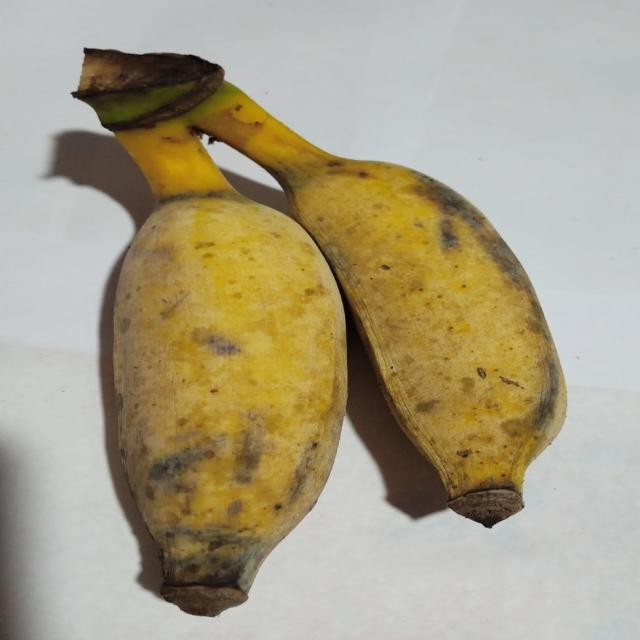banana: (104, 75, 566, 526), (114, 119, 346, 615)
